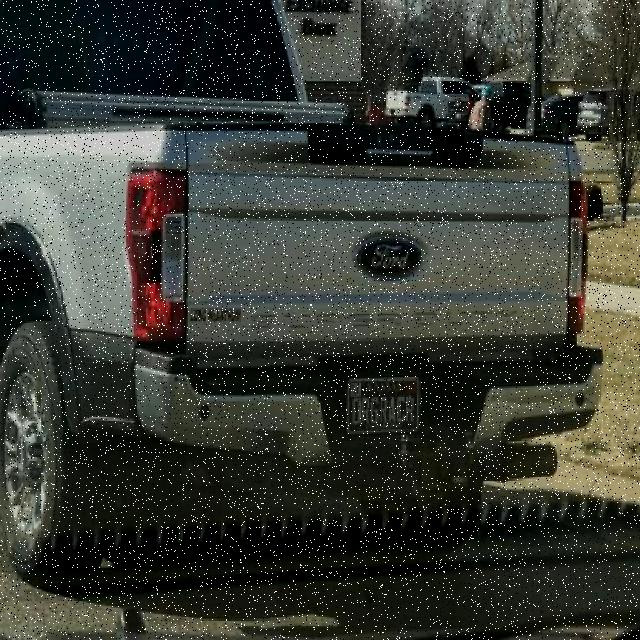licenseplate: (347, 377, 419, 436)
